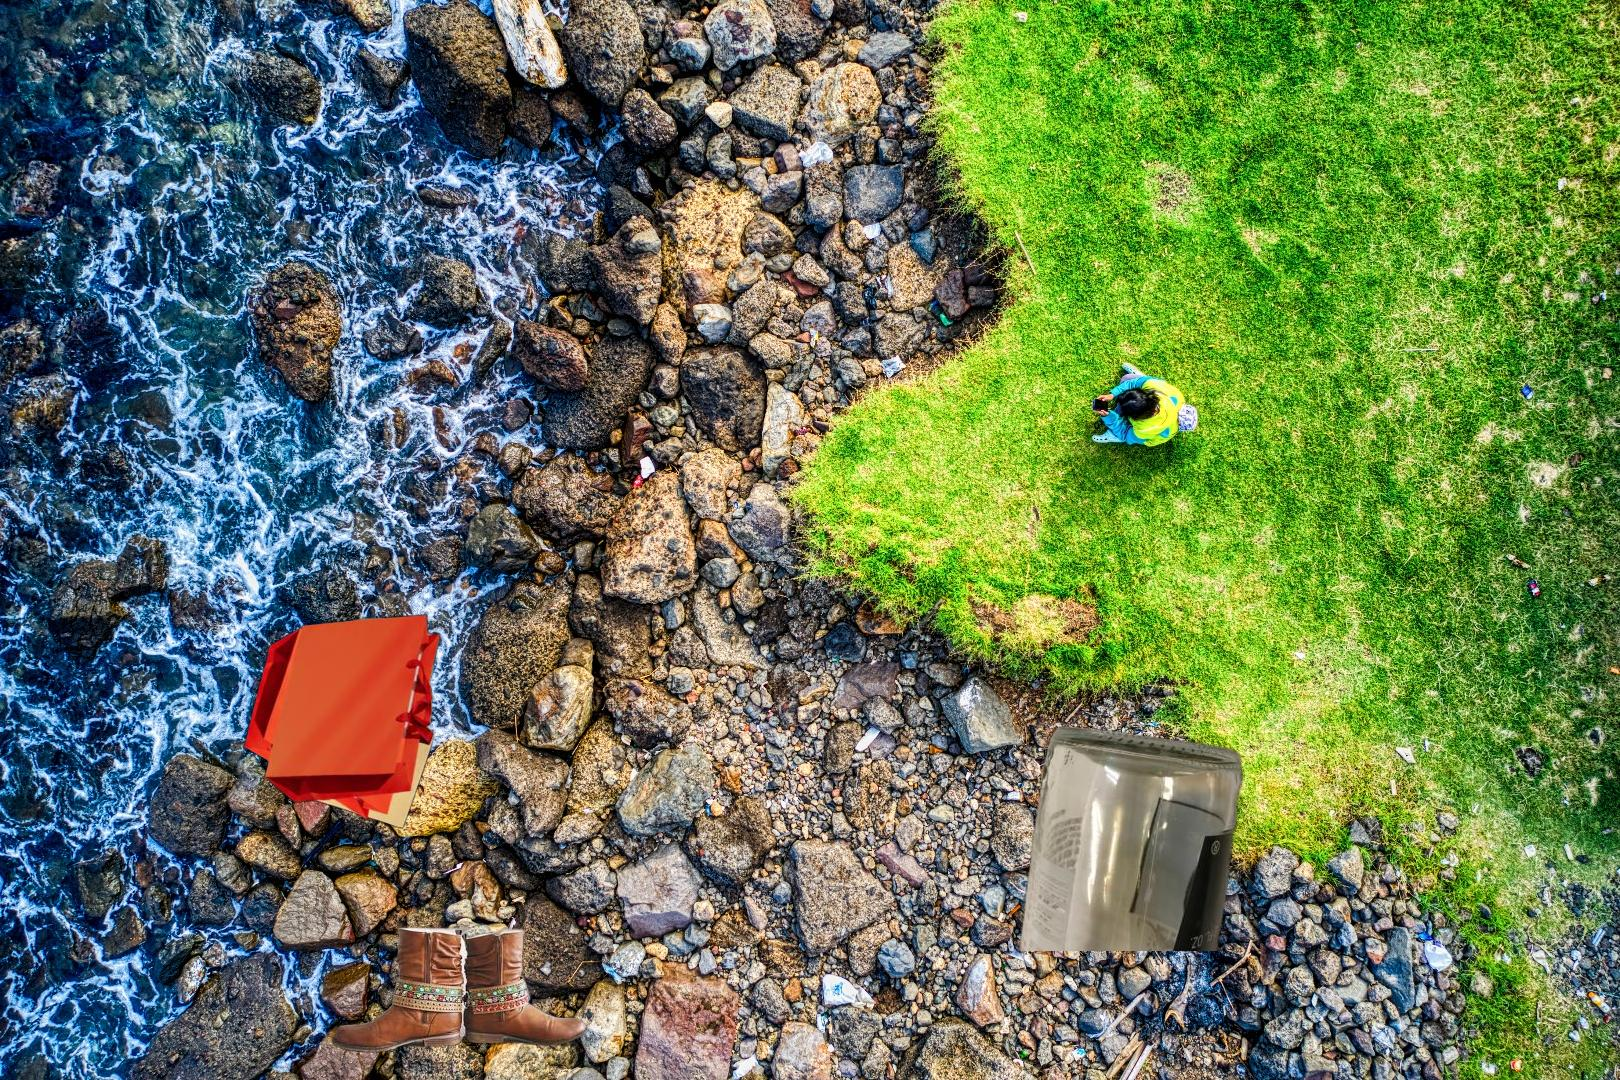glass: (1016, 723, 1248, 951)
paper-bag: (242, 609, 444, 830)
shoes: (329, 925, 589, 1055)
